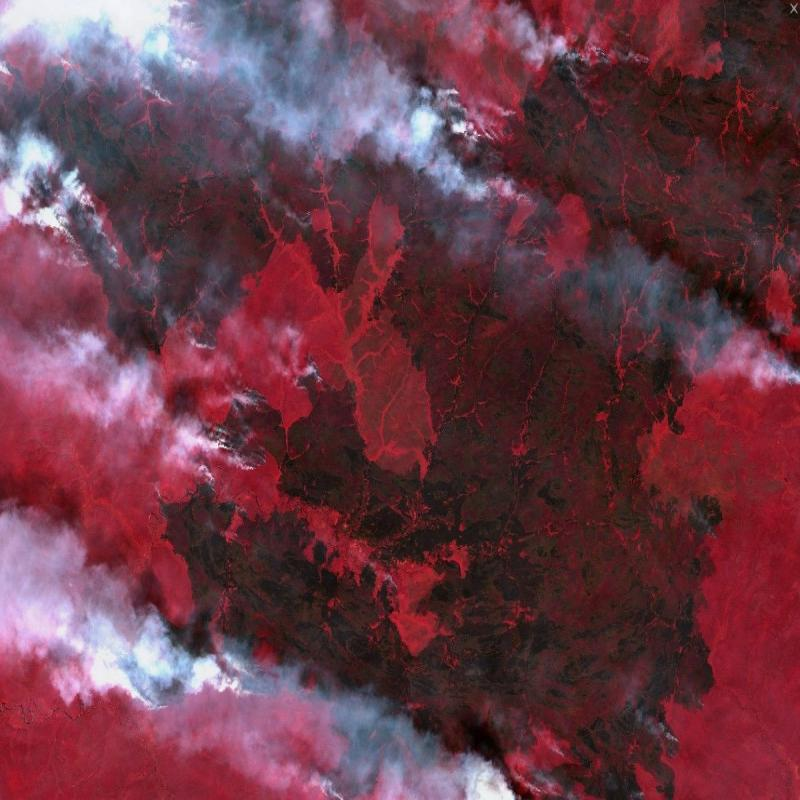fire: (0, 0, 261, 290), (377, 22, 627, 234), (157, 336, 347, 500), (98, 615, 277, 736), (752, 332, 800, 419)
